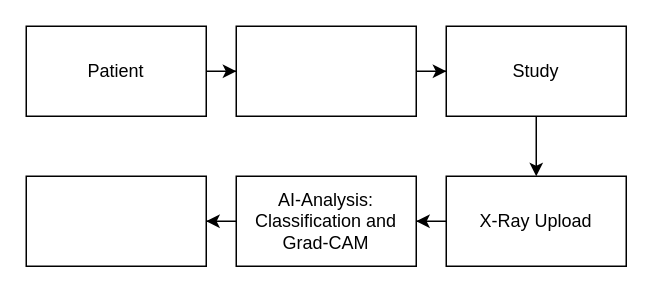
Some shapes in this 653 by 293 pixel diagram are drawn without their labels. The centre of each missing label's shape, as x and y in pixels:
"Display results" goes at point 115,220.
"Patienthistory" goes at point 325,70.
